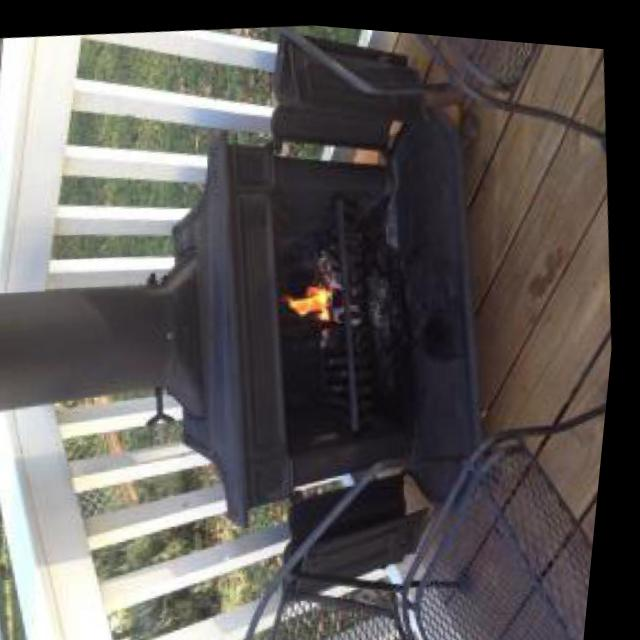Fire: (267, 203, 371, 353)
